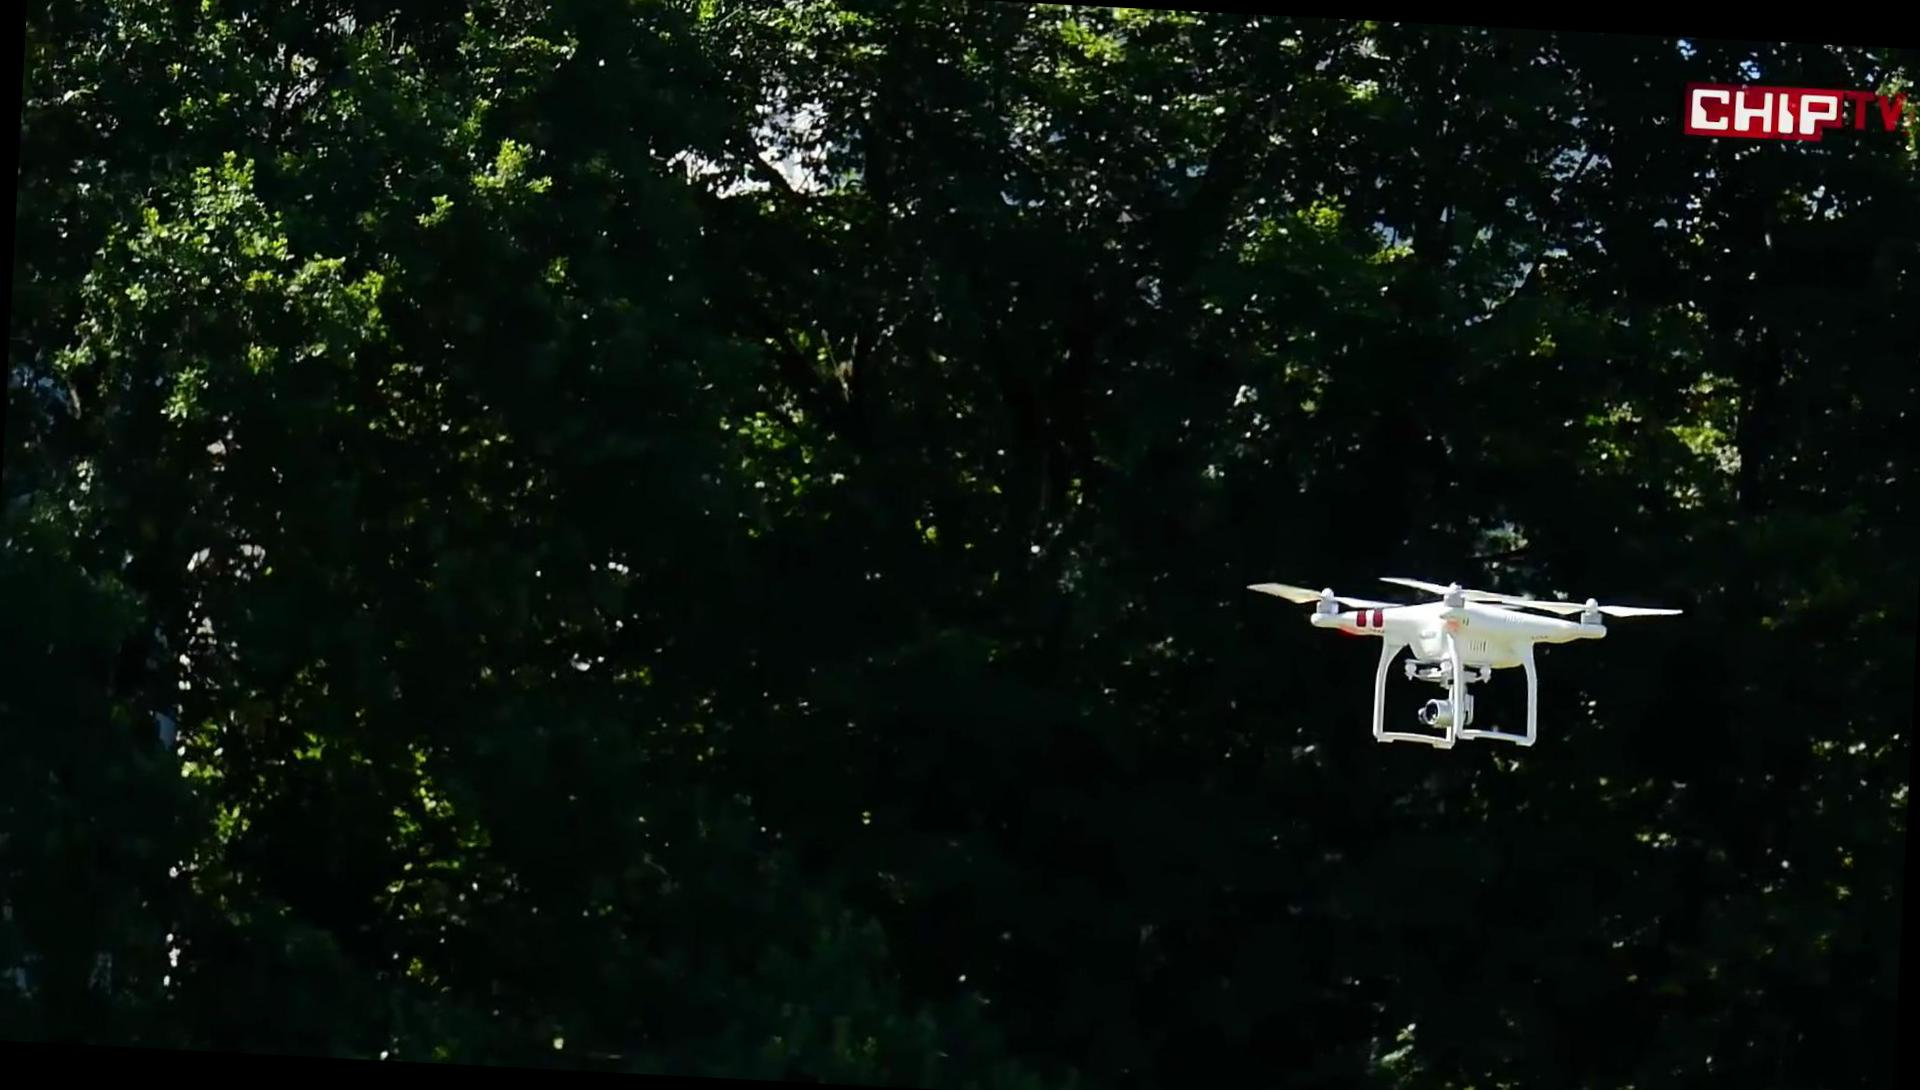drone: (1234, 559, 1685, 760)
